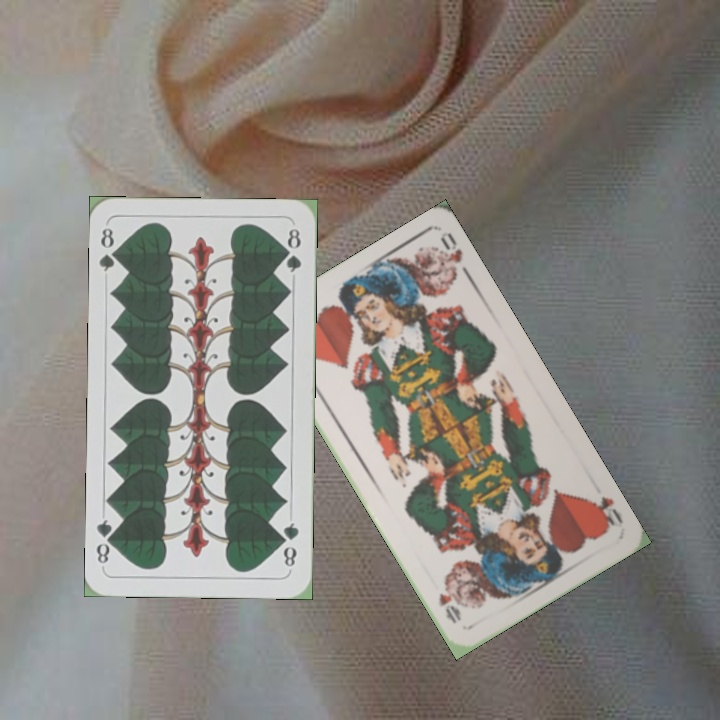G8: (95, 223, 123, 274), (278, 519, 302, 573)
HO: (585, 492, 626, 533)
